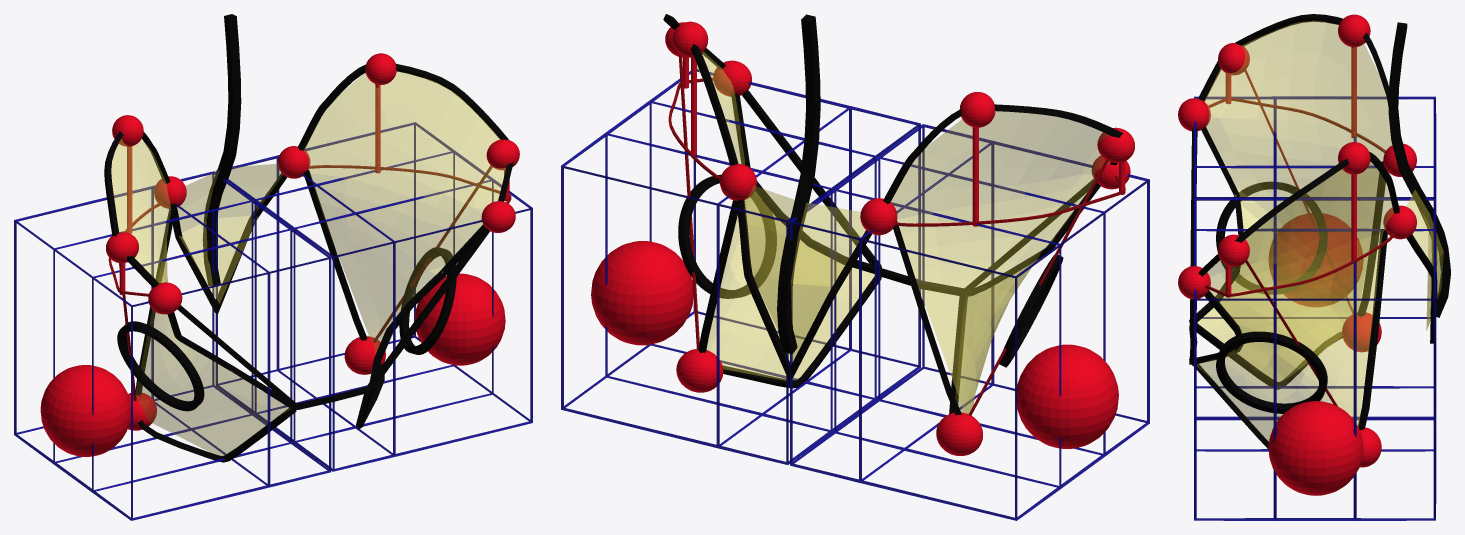
The picture shows the model from 3 angles, left to right: view 1: azimuth 30°, elevation 25°; view 2: azimuth 150°, elevation 25°; view 3: azimuth 270°, elevation 25°; orthographic projection. The views are drawn at different scales.
Parts seen in each view (by area): view 1: Retopo_desirefx_me01.011; view 2: Retopo_desirefx_me01.011; view 3: Retopo_desirefx_me01.011.
Part boxes in pixels (x1,y1,x2,y2): Retopo_desirefx_me01.011: [14, 14, 532, 520]; Retopo_desirefx_me01.011: [561, 14, 1149, 520]; Retopo_desirefx_me01.011: [1178, 14, 1450, 520].
Size of the model in its own units: 7.1 by 5.8 by 3.6.
